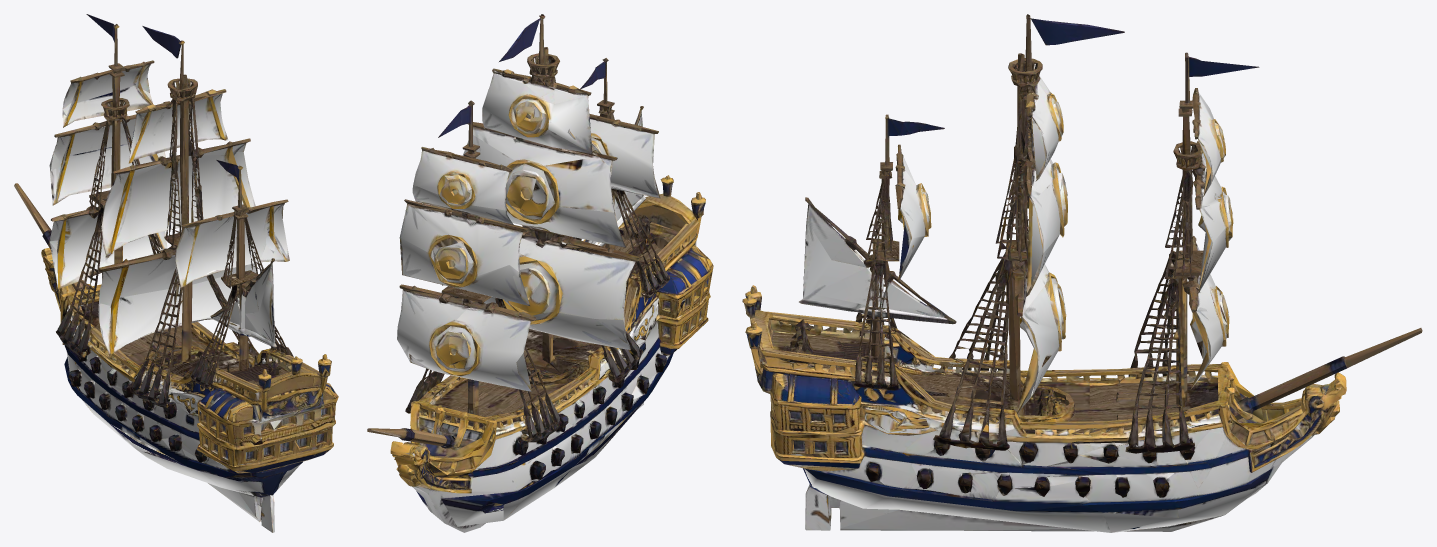
File: man-o-war.glb
3 views of the same model, side by side, from view 1: azimuth 30°, elevation 25°; view 2: azimuth 150°, elevation 25°; view 3: azimuth 270°, elevation 25° (orthographic). The views are drawn at different scales.
Bounding box in the file's own units: 17.65 × 41.87 × 50.
1 material, 1 textured.
